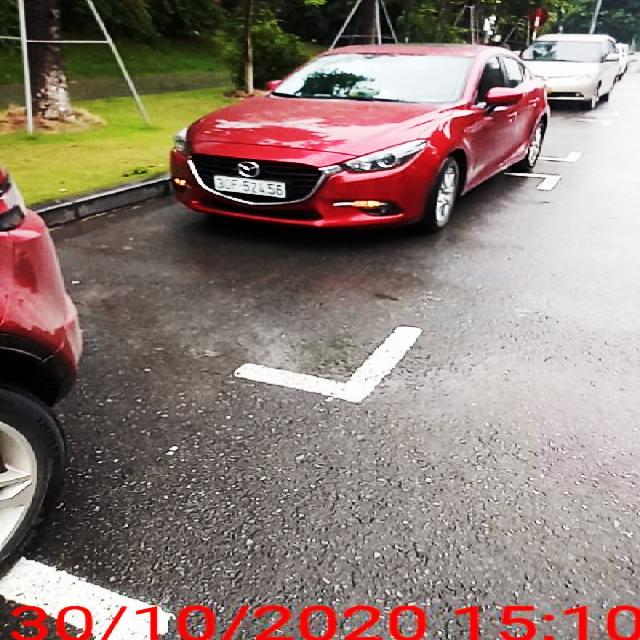license_plate: (214, 176, 288, 199)
